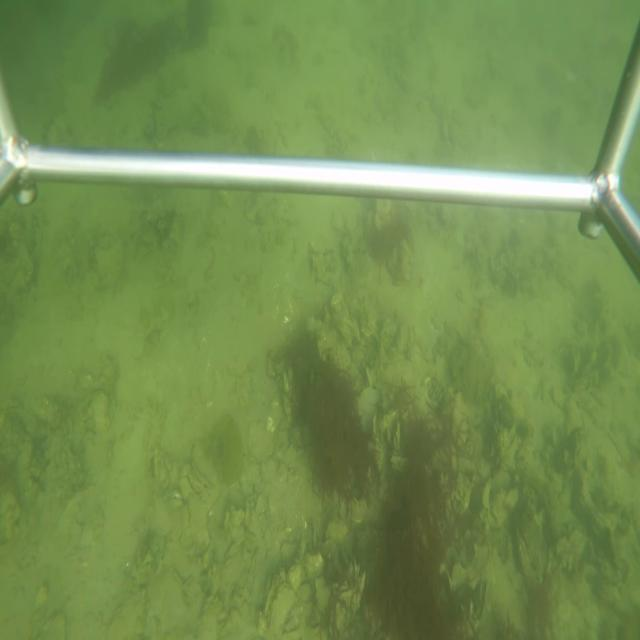Oyster-Indeterminate: (265, 580, 302, 636)
